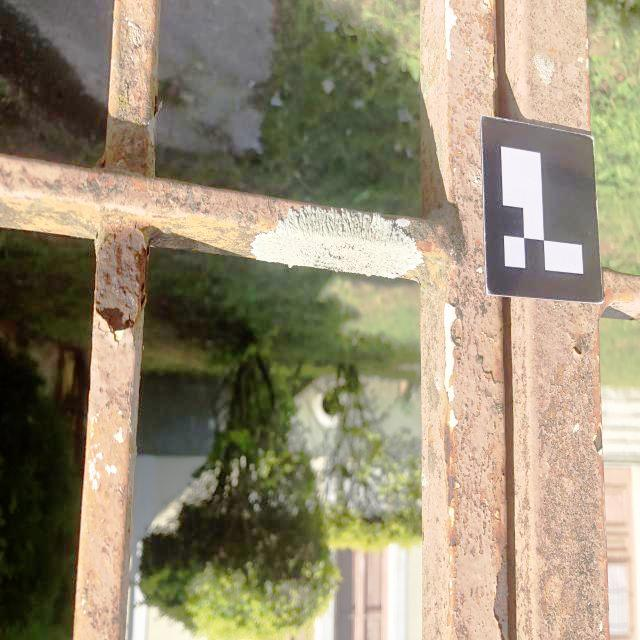Corrosion: (94, 221, 148, 333), (442, 422, 460, 509), (494, 547, 509, 640), (490, 0, 498, 117), (498, 296, 503, 378), (594, 427, 602, 450), (418, 244, 432, 253), (575, 338, 582, 352), (448, 535, 456, 547), (422, 526, 425, 542), (501, 468, 505, 477)
